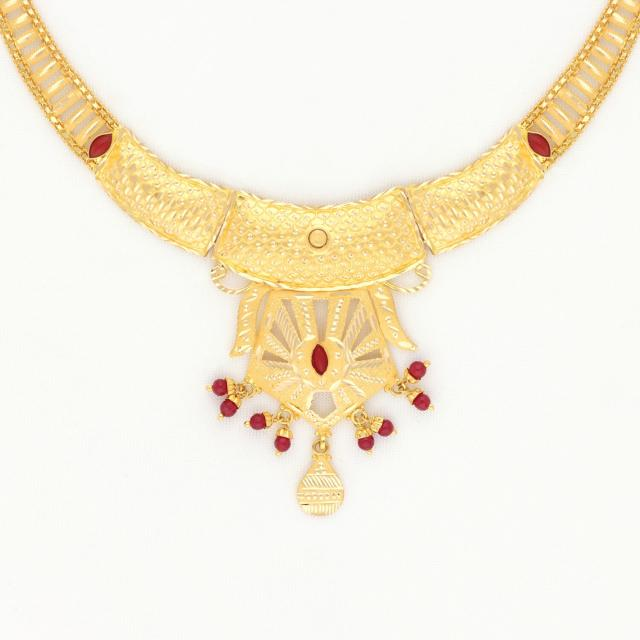missing gem: (309, 229, 327, 247)
